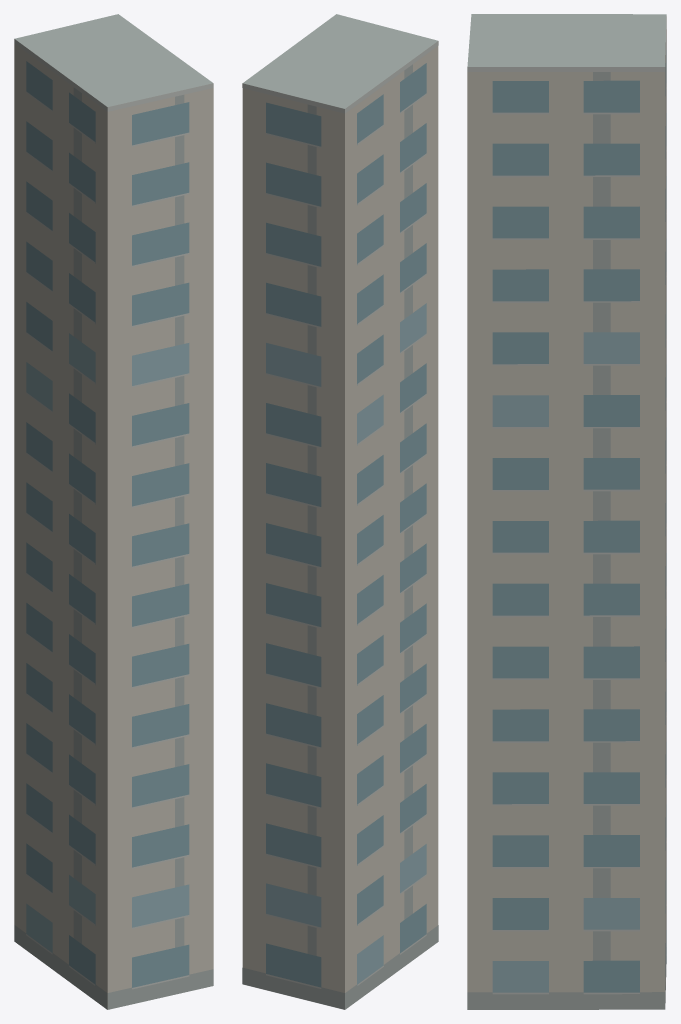
Rendered from survey-upis-32749275.glb.
3 renders of one model, left to right at view 1: azimuth 30°, elevation 25°; view 2: azimuth 150°, elevation 25°; view 3: azimuth 270°, elevation 25°, orthographic. The views are drawn at different scales.
Parts seen in each view (by area): view 1: survey-upis-32749275.tmp; view 2: survey-upis-32749275.tmp; view 3: survey-upis-32749275.tmp.
Part boxes in pixels (box(x1,y1,x2,y2)): survey-upis-32749275.tmp: box(14, 14, 213, 1009); survey-upis-32749275.tmp: box(242, 14, 438, 1009); survey-upis-32749275.tmp: box(467, 14, 666, 1009).
Bounding box in the file's own units: 5.54 × 45.75 × 8.77.
